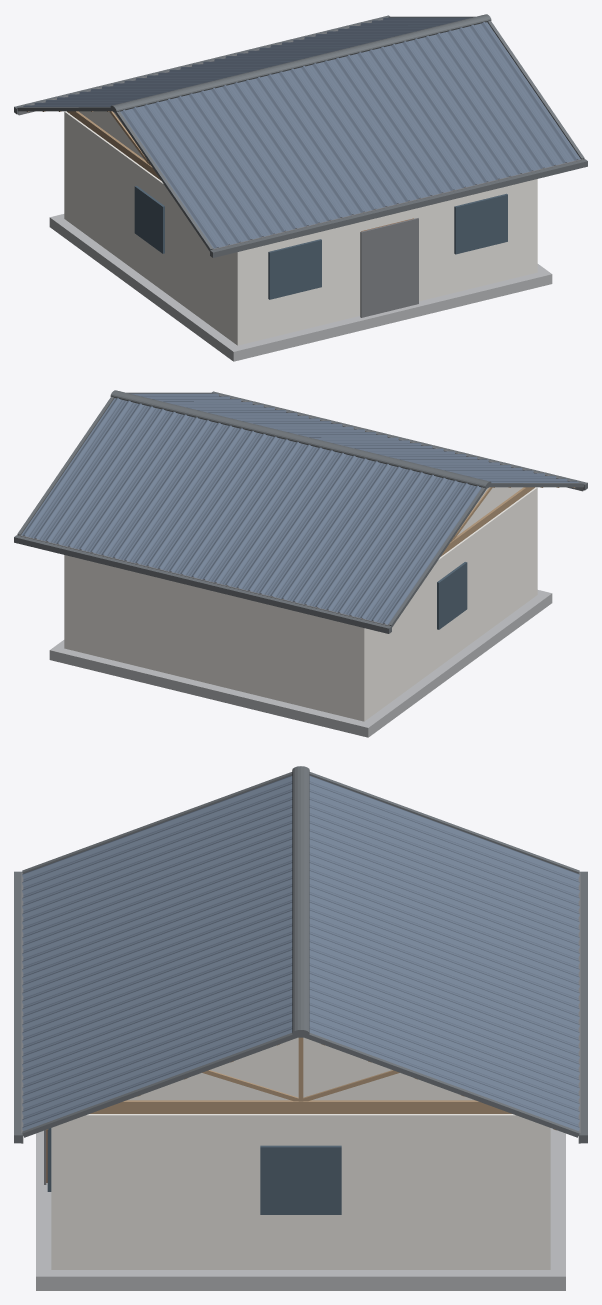
The model's file is Mega_Hi_Rib_Single_Storey_8x8.glb.
3 views of the same model, one above another, from view 1: azimuth 30°, elevation 25°; view 2: azimuth 150°, elevation 25°; view 3: azimuth 270°, elevation 25° (orthographic). The views are drawn at different scales.
Visible parts, largest first — view 1: GroundFloor_Walls, Foundation, RoofSheet_04, RoofSheet_09, RoofSheet_02, RoofSheet_08, RoofSheet_03, RoofSheet_05, RoofSheet_06, RoofSheet_07, RoofSheet_10, RoofSheet_11 (+25 smaller); view 2: GroundFloor_Walls, Foundation, RoofSheet_15, RoofSheet_20, RoofSheet_13, RoofSheet_19, RoofSheet_14, RoofSheet_16, RoofSheet_17, RoofSheet_18, RoofSheet_21, RoofSheet_22 (+22 smaller); view 3: GroundFloor_Walls, Foundation, Gable_Wall_Right, RoofSheet_06, RoofSheet_10, RoofSheet_17, RoofSheet_21, RoofSheet_07, RoofSheet_18, RoofSheet_08, RoofSheet_19, RoofSheet_02 (+25 smaller).
Boxes of the visible parts, x1=… form: GroundFloor_Walls: x1=64, y1=111, x2=537, y2=345; Foundation: x1=49, y1=214, x2=552, y2=361; RoofSheet_04: x1=219, y1=79, x2=345, y2=224; RoofSheet_09: x1=387, y1=38, x2=514, y2=183; RoofSheet_02: x1=151, y1=96, x2=278, y2=240; RoofSheet_08: x1=354, y1=46, x2=480, y2=191; RoofSheet_03: x1=185, y1=87, x2=312, y2=232; RoofSheet_05: x1=253, y1=71, x2=379, y2=216; RoofSheet_06: x1=286, y1=63, x2=413, y2=208; RoofSheet_07: x1=320, y1=54, x2=447, y2=199; RoofSheet_10: x1=421, y1=30, x2=548, y2=175; RoofSheet_11: x1=455, y1=22, x2=580, y2=166; GroundFloor_Walls: x1=64, y1=487, x2=537, y2=721; Foundation: x1=49, y1=590, x2=552, y2=737; RoofSheet_15: x1=256, y1=455, x2=382, y2=600; RoofSheet_20: x1=87, y1=414, x2=214, y2=559; RoofSheet_13: x1=323, y1=472, x2=450, y2=616; RoofSheet_19: x1=121, y1=422, x2=247, y2=567; RoofSheet_14: x1=289, y1=463, x2=416, y2=608; RoofSheet_16: x1=222, y1=447, x2=348, y2=592; RoofSheet_17: x1=188, y1=439, x2=315, y2=584; RoofSheet_18: x1=154, y1=430, x2=281, y2=575; RoofSheet_21: x1=53, y1=406, x2=180, y2=551; RoofSheet_22: x1=21, y1=398, x2=146, y2=542; GroundFloor_Walls: x1=51, y1=1114, x2=550, y2=1269; Foundation: x1=36, y1=1128, x2=565, y2=1290; Gable_Wall_Right: x1=127, y1=1037, x2=474, y2=1100; RoofSheet_06: x1=22, y1=894, x2=292, y2=1015; RoofSheet_10: x1=22, y1=989, x2=292, y2=1110; RoofSheet_17: x1=309, y1=894, x2=579, y2=1015; RoofSheet_21: x1=309, y1=989, x2=579, y2=1110; RoofSheet_07: x1=22, y1=918, x2=292, y2=1039; RoofSheet_18: x1=309, y1=918, x2=579, y2=1039; RoofSheet_08: x1=22, y1=941, x2=292, y2=1063; RoofSheet_19: x1=309, y1=941, x2=579, y2=1063; RoofSheet_02: x1=22, y1=799, x2=292, y2=920.
Size of the model in its own units: 10 by 4.97 by 9.2.
